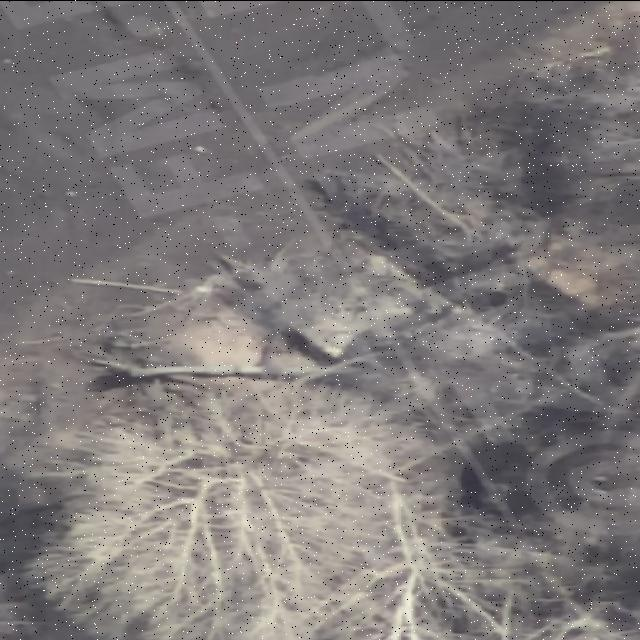ART: (106, 318, 486, 407)
